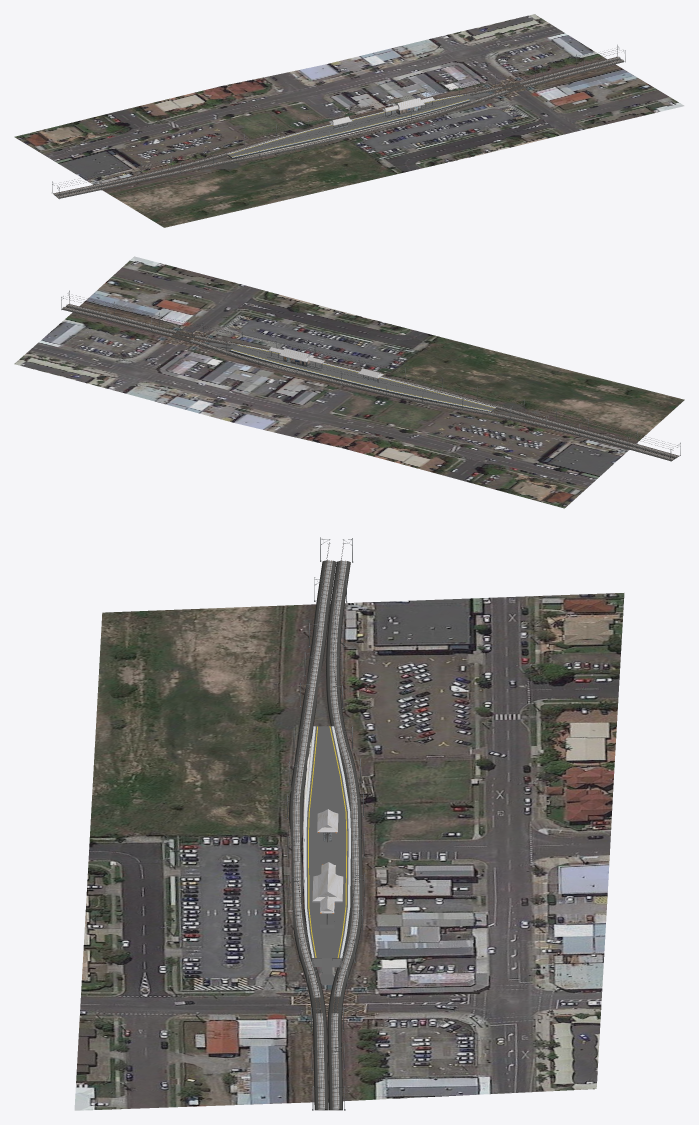
File: environment_station.glb
3 renders of one model, top to bottom at view 1: azimuth 30°, elevation 25°; view 2: azimuth 150°, elevation 25°; view 3: azimuth 270°, elevation 25°, orthographic. The views are drawn at different scales.
Parts seen in each view (by area): view 1: EXPORT_GOOGLE_SAT_WM.002_13, Instance_0_10, platform_12, buildings_11; view 2: EXPORT_GOOGLE_SAT_WM.002_13, Instance_0_10, platform_12, buildings_11; view 3: EXPORT_GOOGLE_SAT_WM.002_13, Instance_0_10, platform_12, buildings_11.
Part boxes in pixels (x1,y1,x2,y2): EXPORT_GOOGLE_SAT_WM.002_13: (14, 14, 684, 227); Instance_0_10: (52, 44, 625, 199); platform_12: (227, 93, 489, 158); buildings_11: (329, 97, 436, 129); EXPORT_GOOGLE_SAT_WM.002_13: (14, 256, 684, 508); Instance_0_10: (61, 290, 680, 461); platform_12: (209, 342, 496, 412); buildings_11: (266, 347, 383, 382); EXPORT_GOOGLE_SAT_WM.002_13: (74, 593, 624, 1110); Instance_0_10: (286, 537, 365, 1110); platform_12: (304, 726, 350, 984); buildings_11: (312, 809, 343, 928).
Size of the model in its own units: 13.86 by 0.3537 by 5.84.
5 materials, 5 textured.
